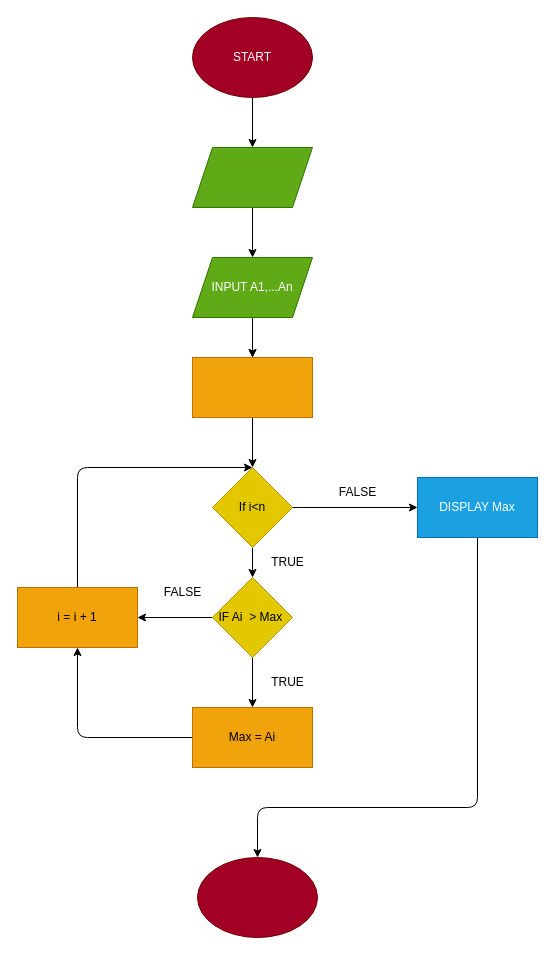
This 555x955 diagram has some shape labels left out. Each missing label, with the centre of its shape:
"END" belongs at point 257,897.
"INPUT N" belongs at point 252,177.
"Max == A1 i == 1" belongs at point 252,387.
